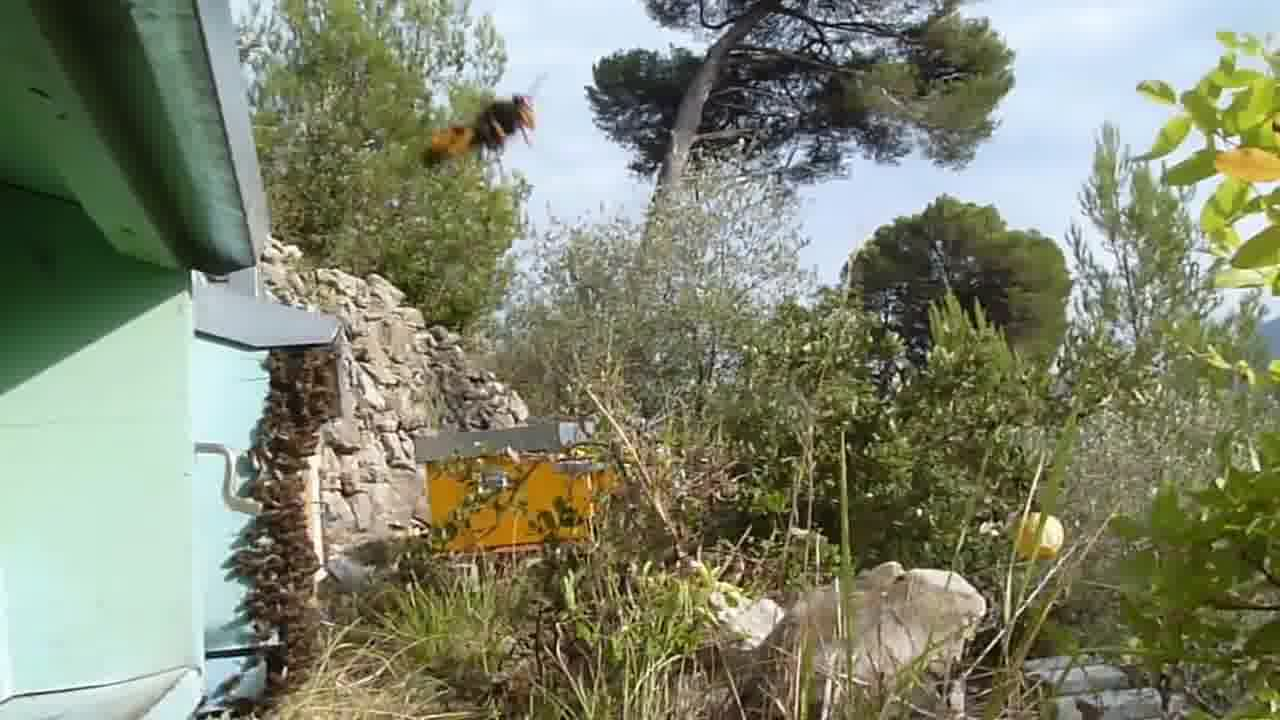bee: (238, 498, 329, 585), (258, 343, 348, 427), (241, 586, 325, 662), (248, 425, 317, 501)
hornet: (420, 87, 535, 174)
